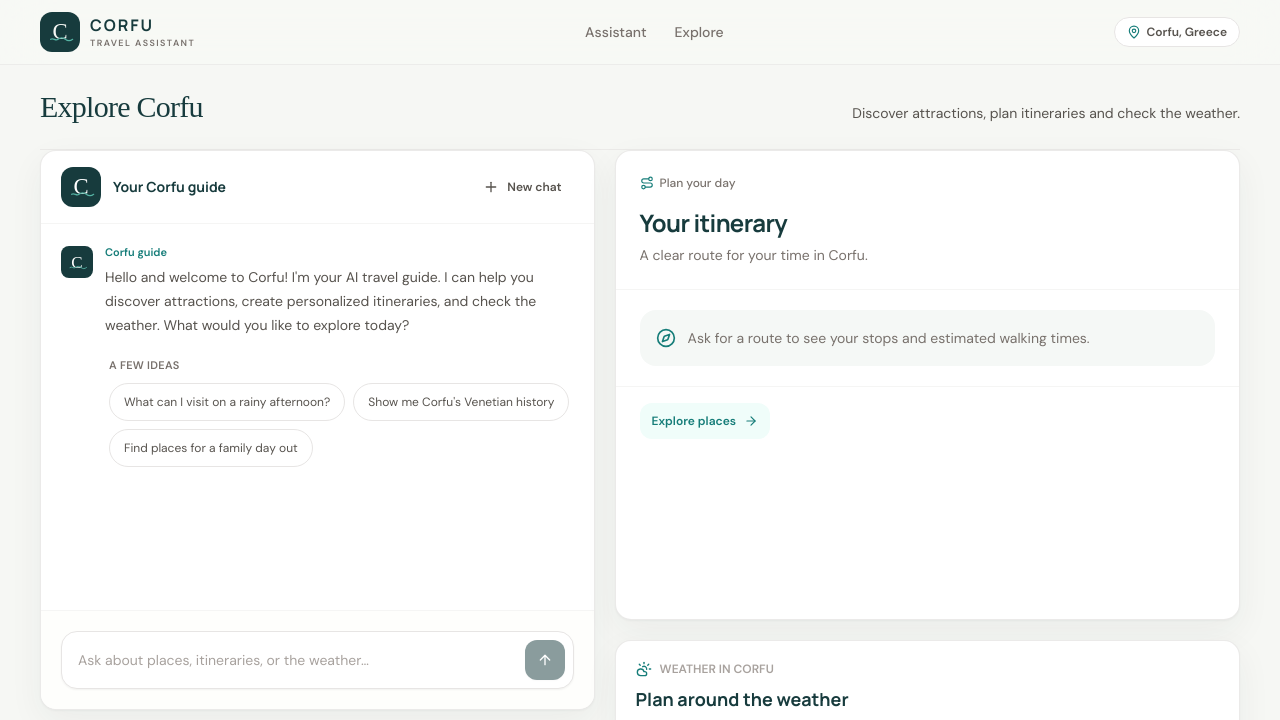
Test: Corfu assistant API integration › renders API evidence and accessible source attribution
In the text box named "Message your Corfu guide": (293, 660) [70,640,517,680], type "Tell me about Old Fortress"
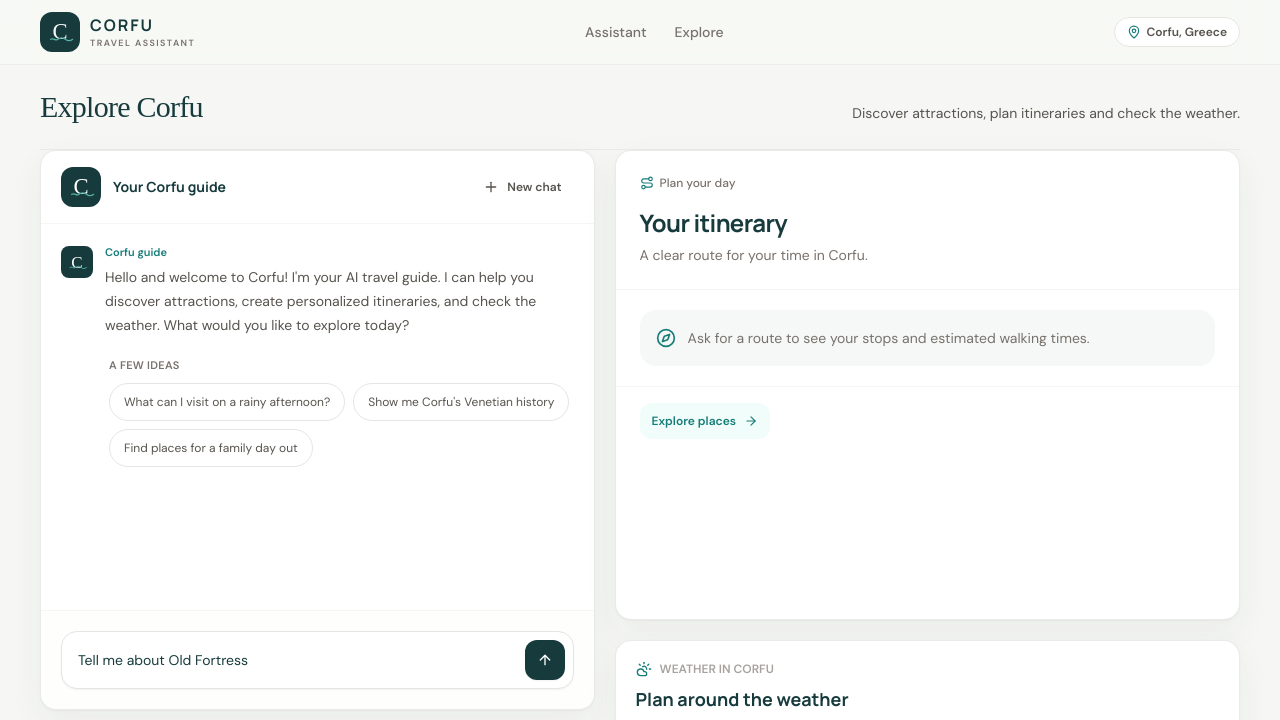
Expected: the button named "Send message" is enabled
Click the button named "Send message": (545, 660) [525,640,565,680]
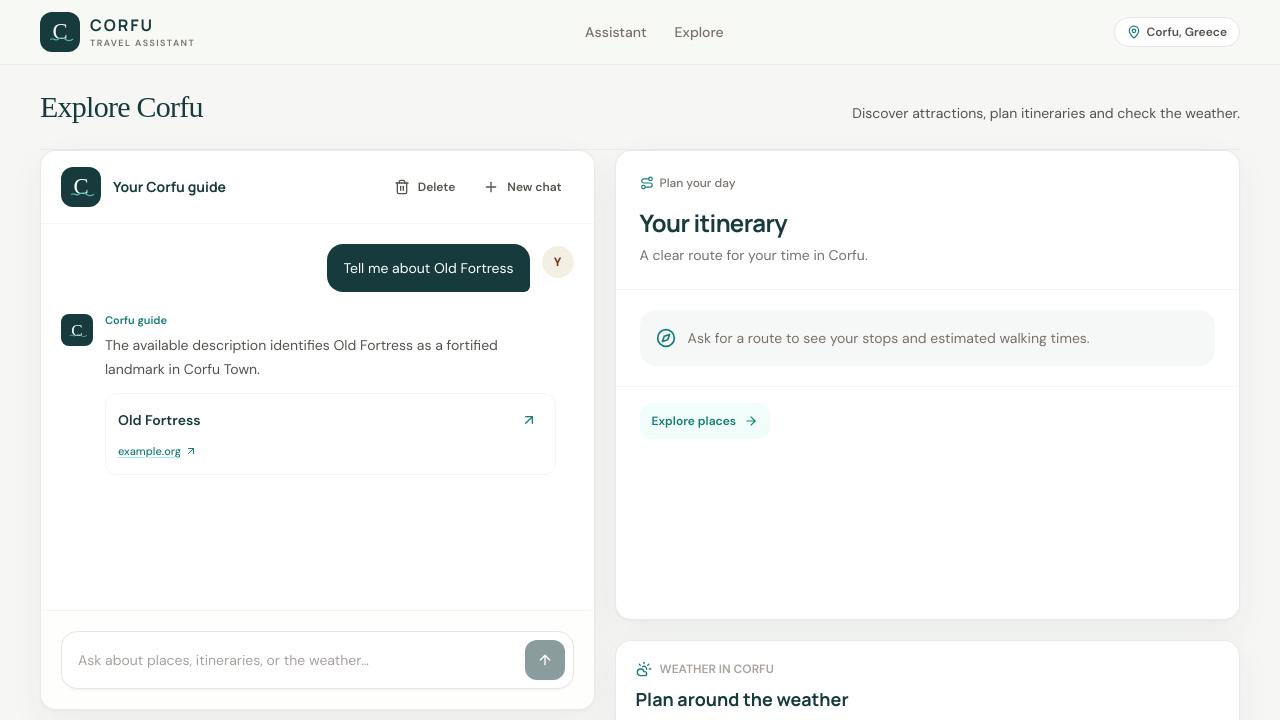
Expected: the text "The available description identifies Old Fortress as a fortified landmark in Corfu Town." is shown, [105,336,502,378]
Click the button named "Open Old Fortress details": (529, 420) [515,406,543,434]
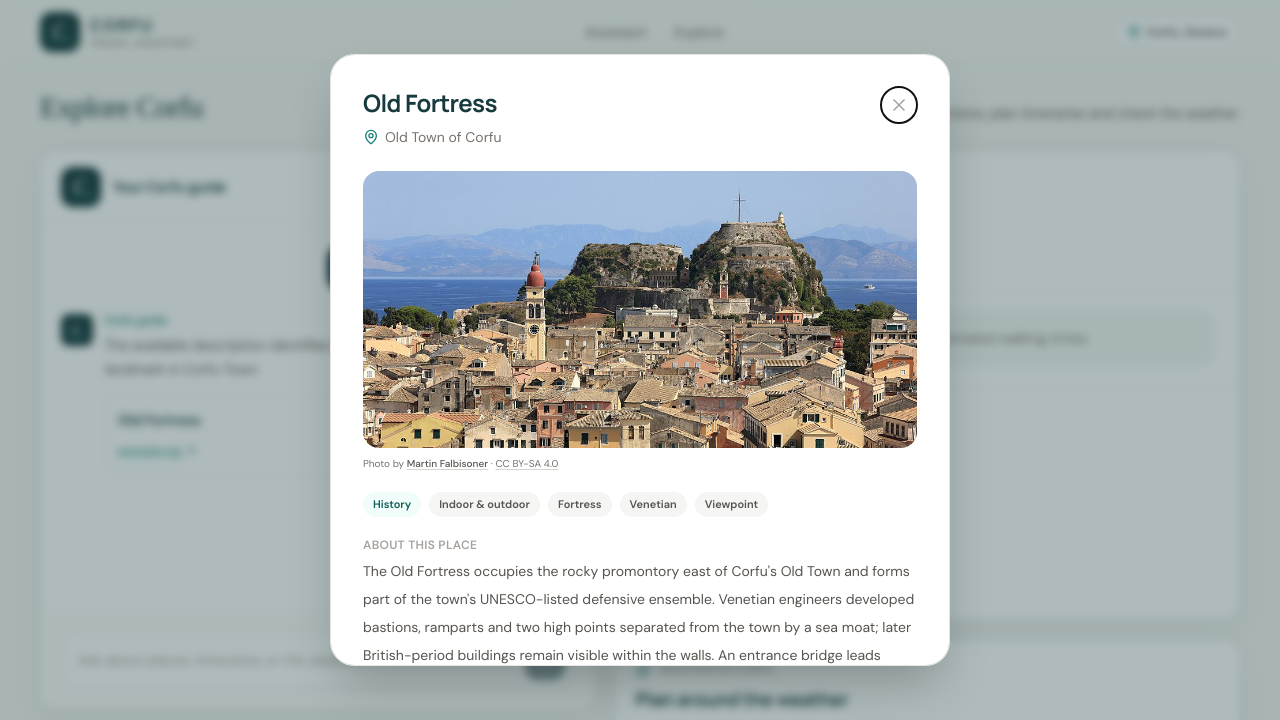
Expected: the dialog is shown, [330,54,950,666]
